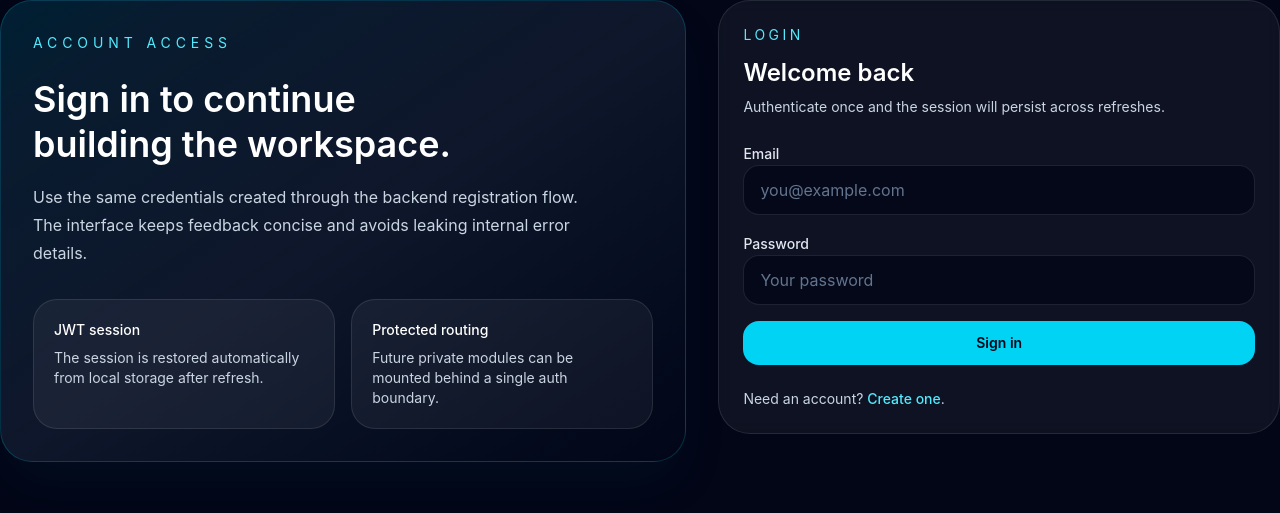
Test case: LoginPage › shows backend errors on failed login
In the field labelled "Email": (999, 190) [743,165,1255,215], type "ada@example.com"
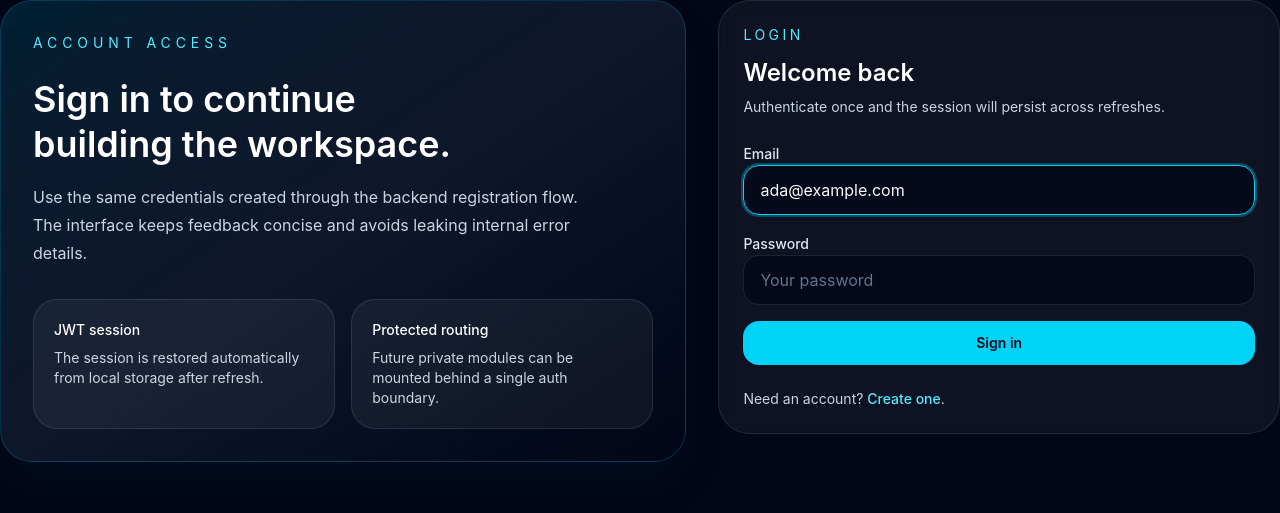
In the password field labelled "Password": (999, 280) [743,255,1255,305], type "Password123"
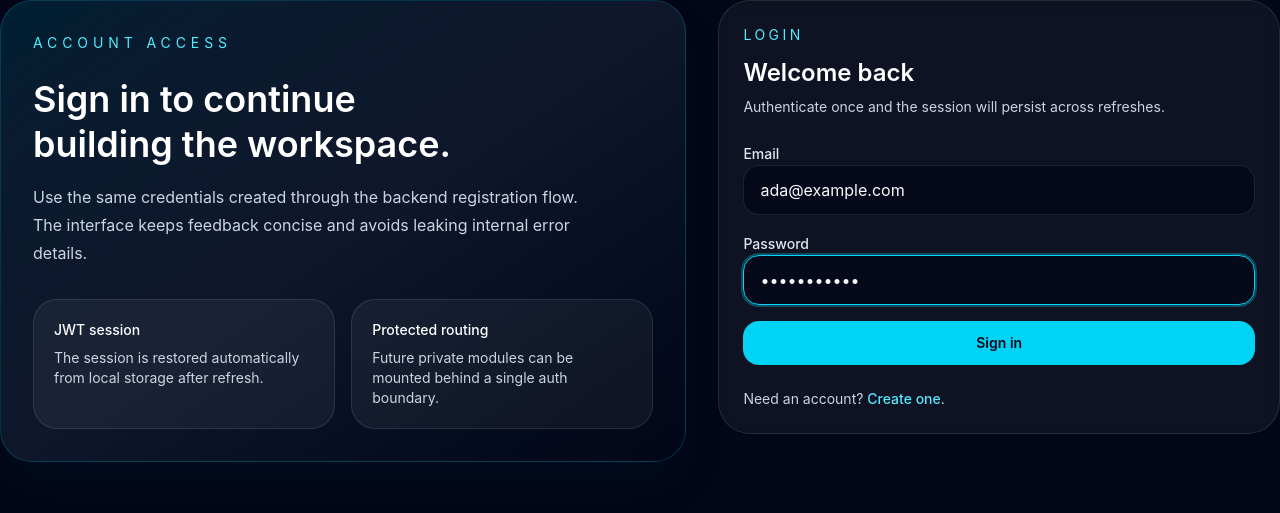
Click the button "Sign in": (999, 343) [743,321,1255,365]
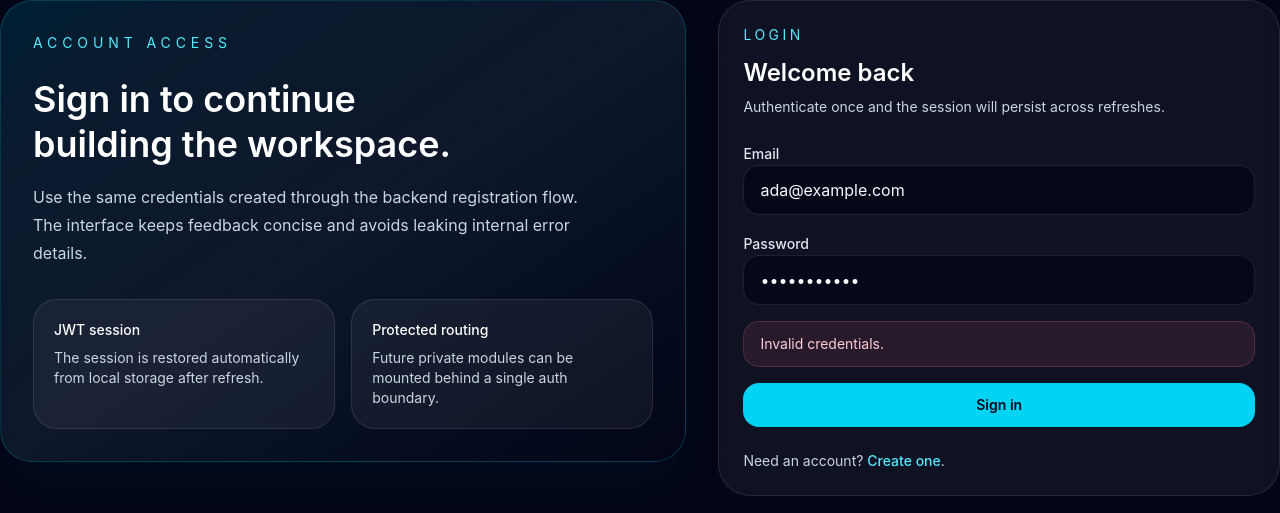
Now the text "Invalid credentials." is shown, box [743,321,1255,367]
